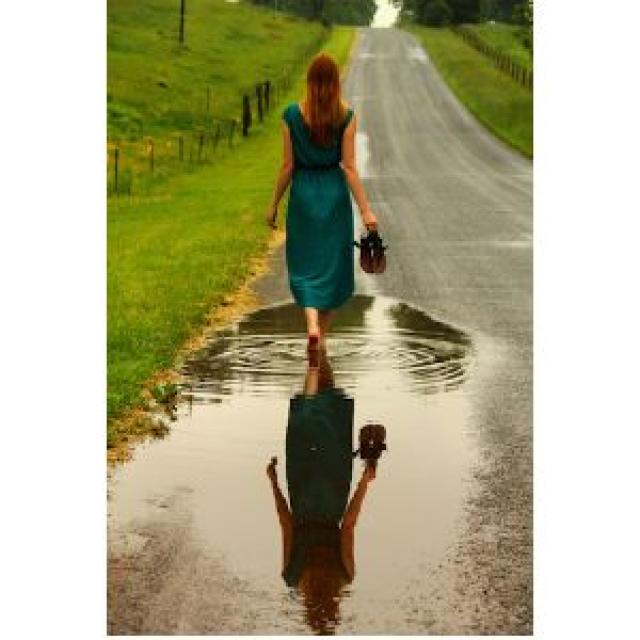nonfall: (273, 55, 370, 364)
